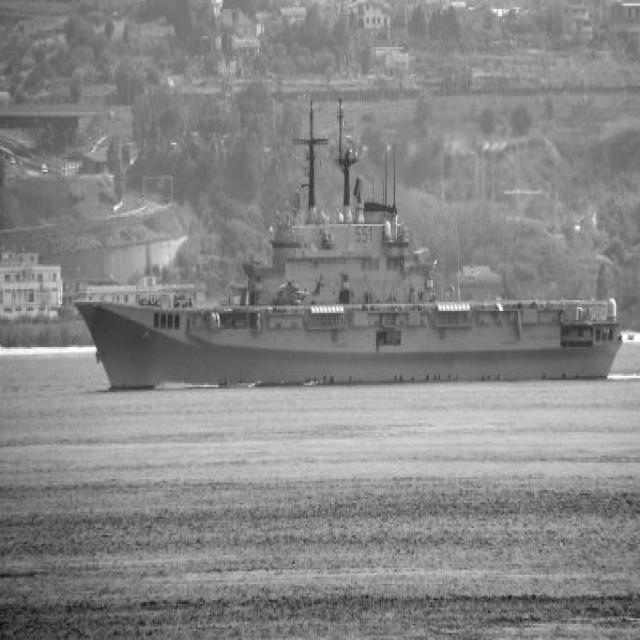Portanaves: (80, 95, 627, 395)
